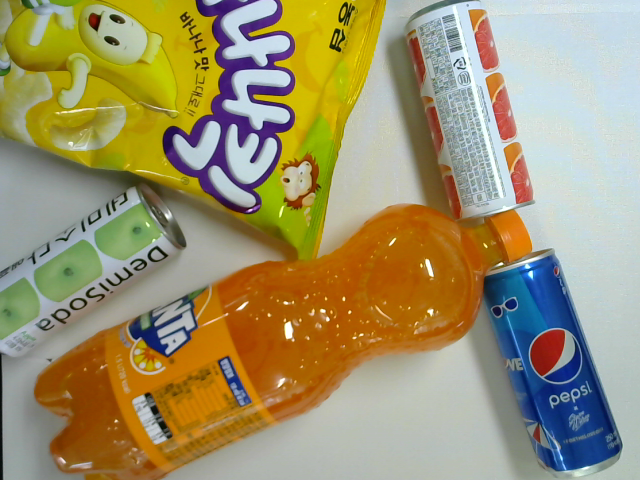Banana_Kick: (1, 1, 389, 263)
Demisoda_Apple_Can_250ml: (1, 181, 188, 358)
Demisoda_Grapefruit_Can_250ml: (403, 1, 536, 222)
Hwanta_Orange_1.5L: (32, 201, 535, 480)
Pepsi_Cola_Can_250ml: (478, 247, 627, 480)
